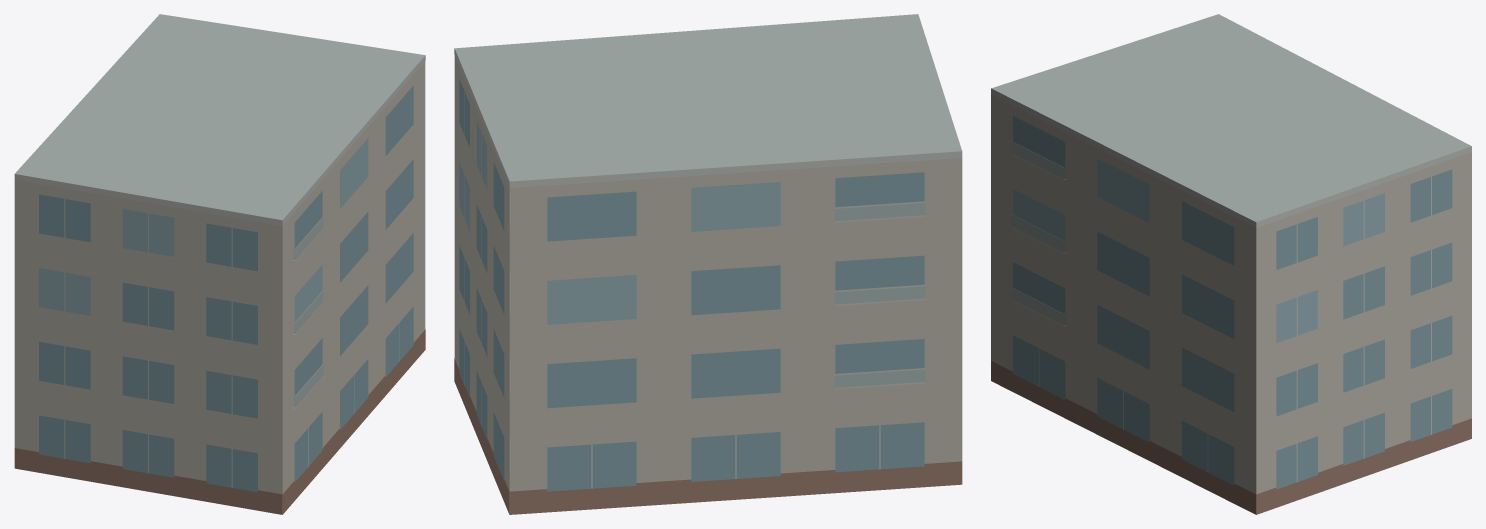
Rendered from survey-upis-32866288.glb.
The picture shows the model from 3 angles, left to right: view 1: azimuth 30°, elevation 25°; view 2: azimuth 150°, elevation 25°; view 3: azimuth 270°, elevation 25°; orthographic projection. The views are drawn at different scales.
Visible parts, largest first — view 1: survey-upis-32866288.tmp; view 2: survey-upis-32866288.tmp; view 3: survey-upis-32866288.tmp.
Boxes of the visible parts, box(x1,y1,x2,y2) form: survey-upis-32866288.tmp: box(14, 14, 425, 514); survey-upis-32866288.tmp: box(454, 14, 962, 514); survey-upis-32866288.tmp: box(991, 14, 1471, 514).
Size of the model in its own units: 18.94 by 12.4 by 18.47.
